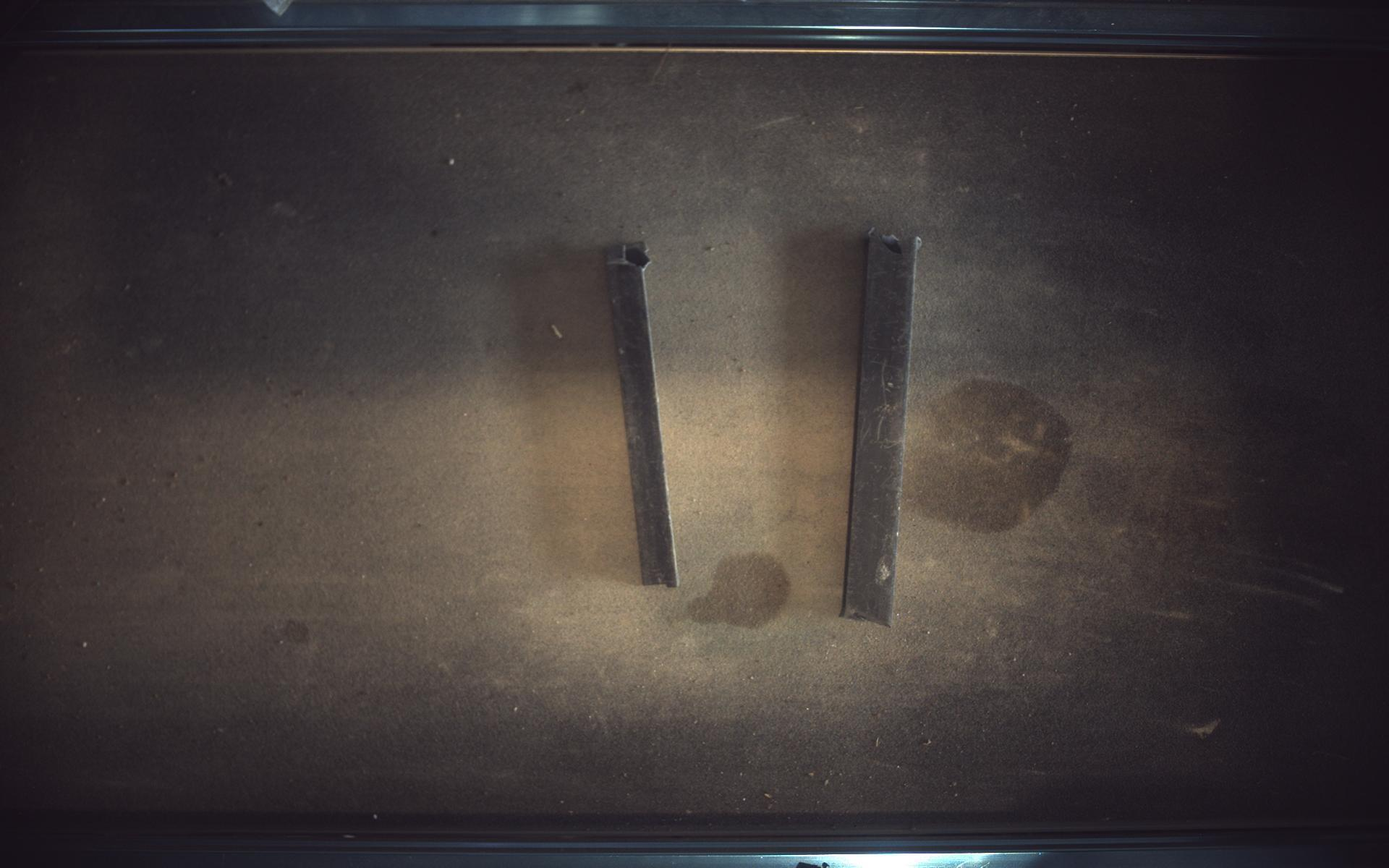plastic: (844, 228, 922, 627), (607, 242, 679, 588)
